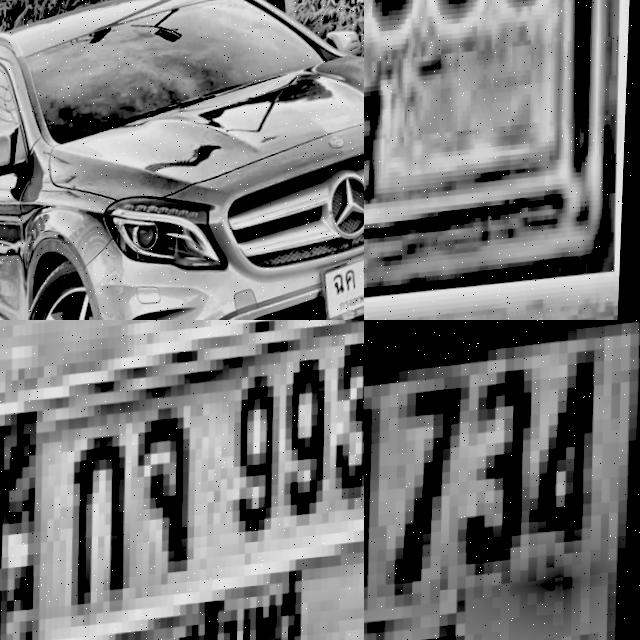license-plate: (0, 320, 364, 640), (364, 0, 640, 320), (364, 320, 640, 640), (316, 247, 364, 320)
